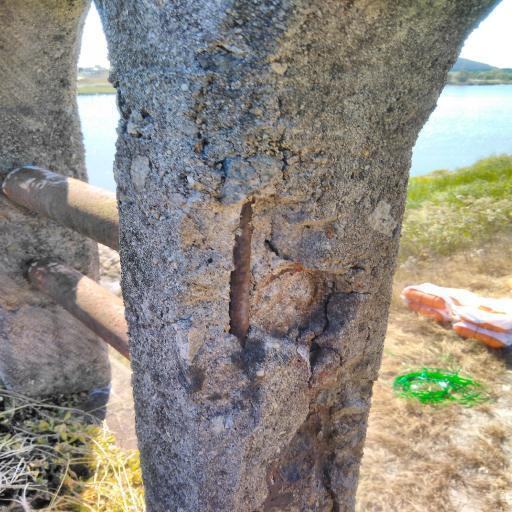exposed_rebar: (229, 201, 252, 347)
